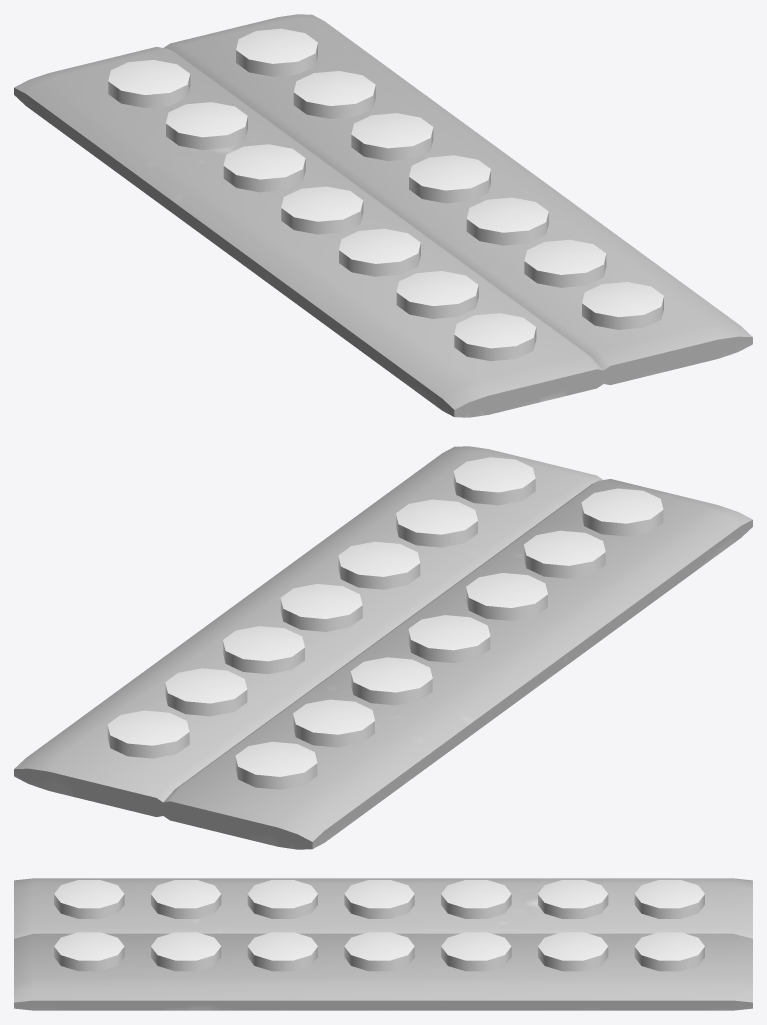
The model's file is Comprimidos.fbx.
3 renders of one model, top to bottom at view 1: azimuth 30°, elevation 25°; view 2: azimuth 150°, elevation 25°; view 3: azimuth 270°, elevation 25°, orthographic. The views are drawn at different scales.
Visible parts, largest first — view 1: Comprimidos; view 2: Comprimidos; view 3: Comprimidos.
Part boxes in pixels (x1,y1,x2,y2): Comprimidos: [14, 14, 752, 417]; Comprimidos: [14, 446, 752, 849]; Comprimidos: [14, 878, 752, 1010].
Size of the model in its own units: 5.94 by 0.9467 by 15.19.
